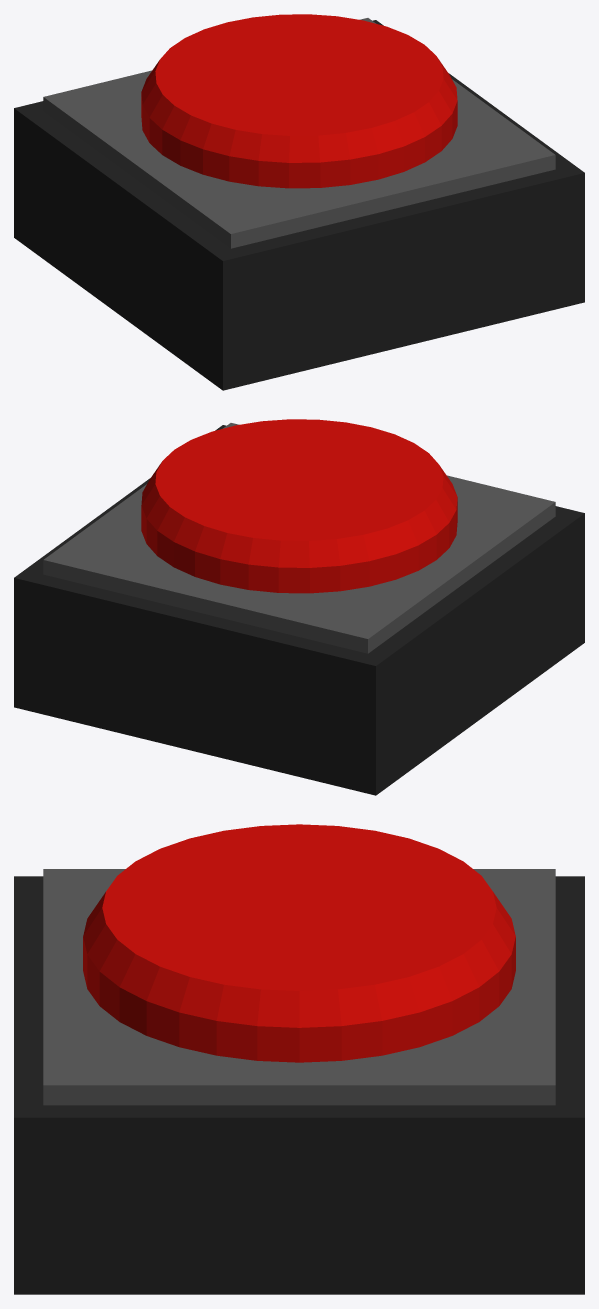
The model's file is Button.fbx.
3 renders of one model, top to bottom at view 1: azimuth 30°, elevation 25°; view 2: azimuth 150°, elevation 25°; view 3: azimuth 270°, elevation 25°, orthographic. The views are drawn at different scales.
Visible parts, largest first — view 1: Cube; view 2: Cube; view 3: Cube.
Boxes of the visible parts, <box> form: Cube: <box>14,14,584,390</box>; Cube: <box>14,419,584,795</box>; Cube: <box>14,824,584,1294</box>.
Bounding box in the file's own units: 369 × 190 × 369.
